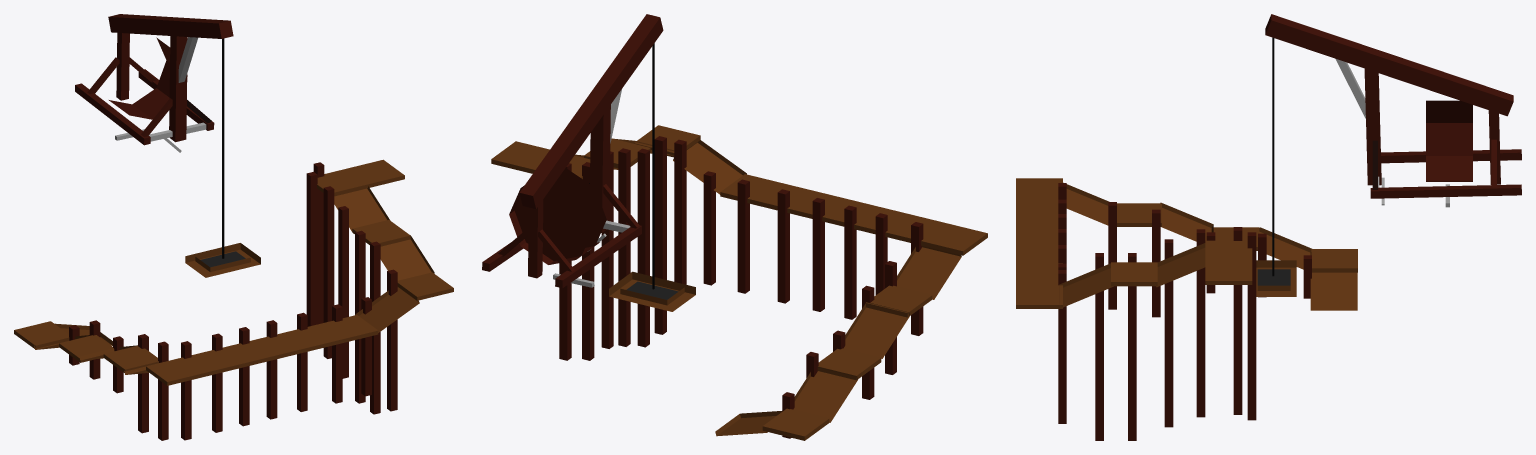
File: quarry.obj
3 renders of one model, left to right at view 1: azimuth 30°, elevation 25°; view 2: azimuth 150°, elevation 25°; view 3: azimuth 270°, elevation 25°, orthographic. The views are drawn at different scales.
Parts seen in each view (by area): view 1: Cube, Cube.035_Cube.055, Cube.007, Cube.026, Cube.025, Cube.045_Cube.066, Cube.034_Cube.054, Cube.003, Cube.024, Cube.022, Circle.001_Circle.002, Cube.006 (+22 smaller); view 2: Cube, Cube.035_Cube.055, Circle.001_Circle.002, Cube.010_Cube.033, Cube.045_Cube.066, Cube.022, Cube.008, Cube.023, Cube.012, Cube.021, Cube.024, Cube.034_Cube.054 (+23 smaller); view 3: Cube.035_Cube.055, Cube, Circle.001_Circle.002, Cube.007, Cube.014, Cube.033_Cube.056, Cube.027, Cube.024, Cube.025, Cube.045_Cube.066, Cube.023, Cube.022 (+18 smaller).
Part boxes in pixels (x1,y1,x2,y2): Cube: [146, 315, 378, 385]; Cube.035_Cube.055: [108, 14, 233, 38]; Cube.007: [317, 159, 404, 196]; Cube.026: [306, 172, 317, 326]; Cube.025: [323, 186, 334, 358]; Cube.045_Cube.066: [185, 243, 260, 277]; Cube.034_Cube.054: [169, 36, 187, 142]; Cube.003: [380, 235, 434, 280]; Cube.024: [338, 206, 348, 378]; Cube.022: [370, 241, 380, 414]; Circle.001_Circle.002: [109, 37, 187, 119]; Cube.006: [334, 186, 390, 233]; Cube: [720, 174, 987, 255]; Cube.035_Cube.055: [519, 14, 663, 208]; Circle.001_Circle.002: [509, 169, 606, 264]; Cube.010_Cube.033: [843, 302, 910, 358]; Cube.045_Cube.066: [609, 271, 695, 311]; Cube.022: [654, 136, 666, 334]; Cube.008: [897, 246, 961, 299]; Cube.023: [637, 148, 649, 347]; Cube.012: [793, 367, 857, 422]; Cube.021: [674, 139, 686, 284]; Cube.024: [618, 148, 630, 346]; Cube.034_Cube.054: [590, 104, 610, 232]; Cube.035_Cube.055: [1265, 14, 1513, 116]; Cube: [1016, 178, 1062, 285]; Circle.001_Circle.002: [1426, 100, 1472, 181]; Cube.007: [1205, 240, 1252, 284]; Cube.014: [1310, 272, 1357, 310]; Cube.033_Cube.056: [1370, 184, 1521, 198]; Cube.027: [1247, 232, 1256, 420]; Cube.024: [1164, 239, 1173, 427]; Cube.025: [1196, 229, 1205, 417]; Cube.045_Cube.066: [1256, 260, 1296, 296]; Cube.023: [1128, 253, 1136, 440]; Cube.022: [1095, 253, 1103, 440].
Bounding box in the file's own units: 17.44 × 18.02 × 21.54.
